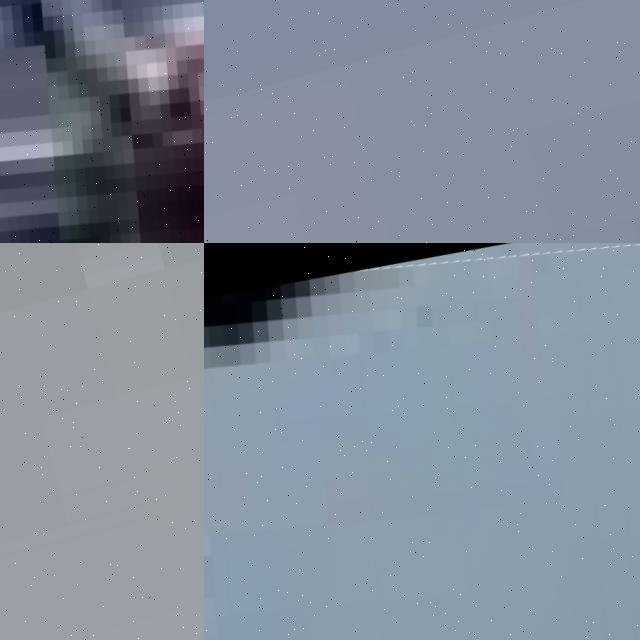drone: (204, 243, 640, 640), (0, 0, 204, 243)
